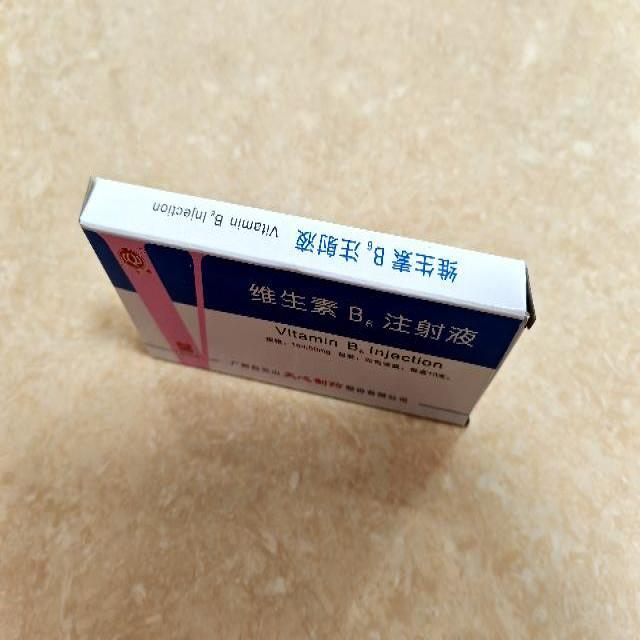box: (76, 174, 538, 428)
